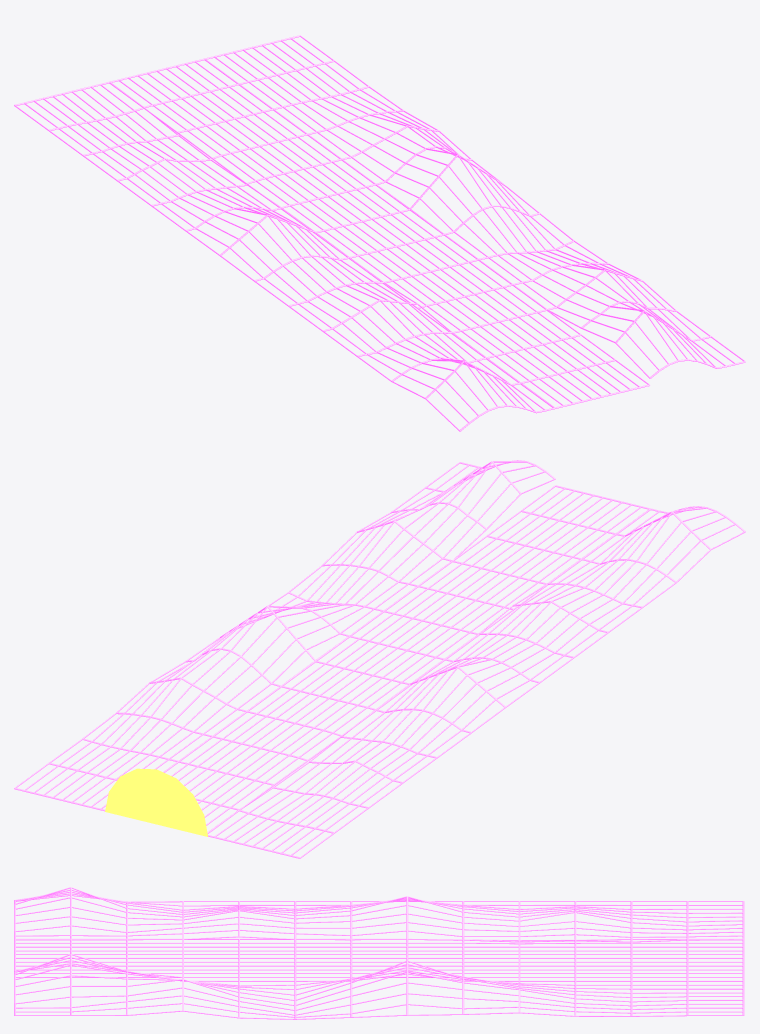
Rendered from suelo.gltf.
3 renders of one model, top to bottom at view 1: azimuth 30°, elevation 25°; view 2: azimuth 150°, elevation 25°; view 3: azimuth 270°, elevation 25°, orthographic. The views are drawn at different scales.
Visible parts, largest first — view 1: Plane; view 2: Plane, Disc; view 3: Plane.
Part boxes in pixels (left/top/right/bottom): Plane: left=14, top=35, right=745, bottom=431; Plane: left=14, top=460, right=745, bottom=858; Disc: left=105, top=768, right=207, bottom=836; Plane: left=14, top=887, right=744, bottom=1019.
Bounding box in the file's own units: 447 × 95.28 × 1200.
